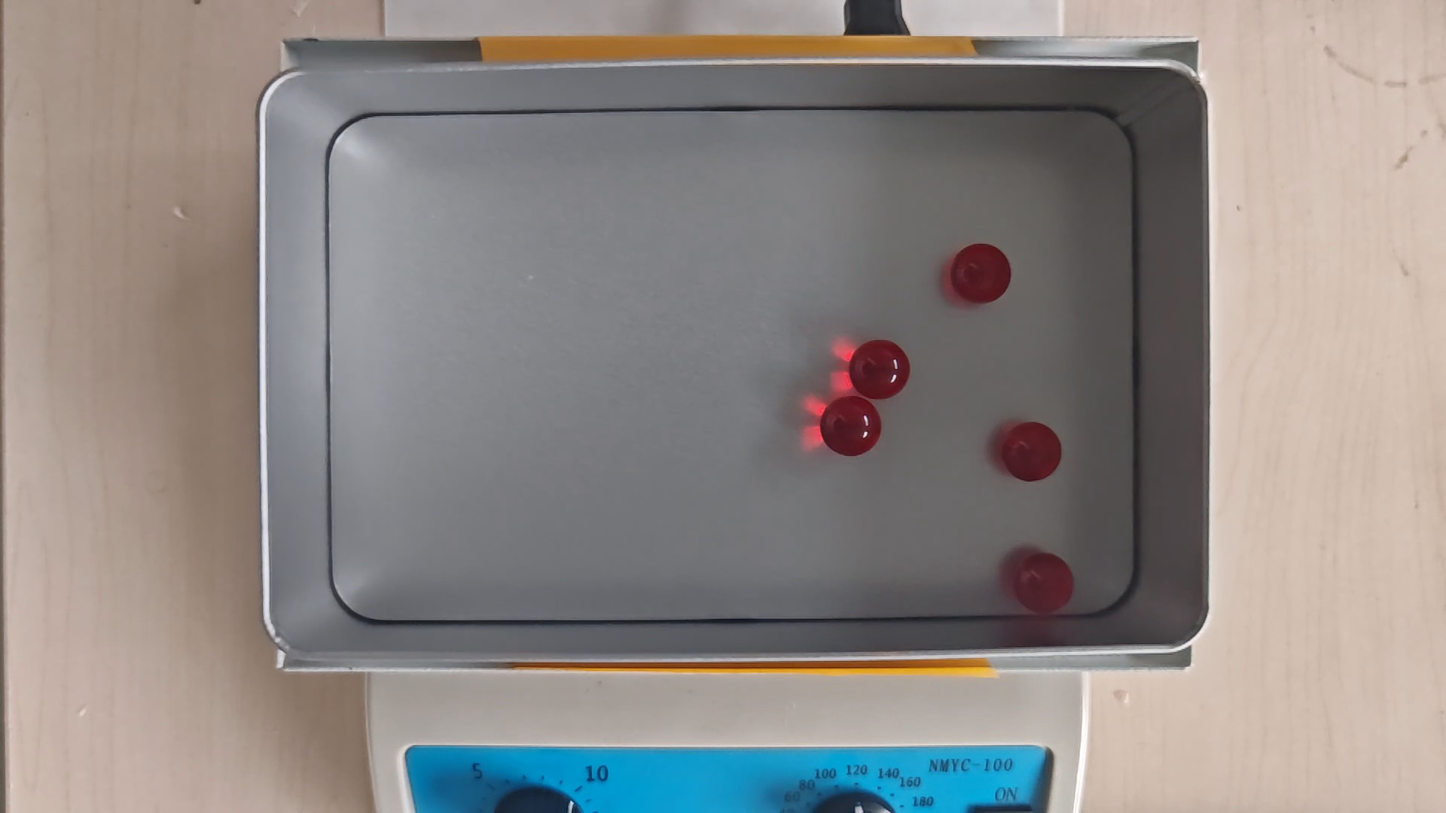ball: (1014, 553, 1076, 617), (849, 340, 911, 402), (820, 397, 883, 458), (1001, 422, 1063, 482), (952, 242, 1011, 304)
container: (328, 108, 1136, 621)
